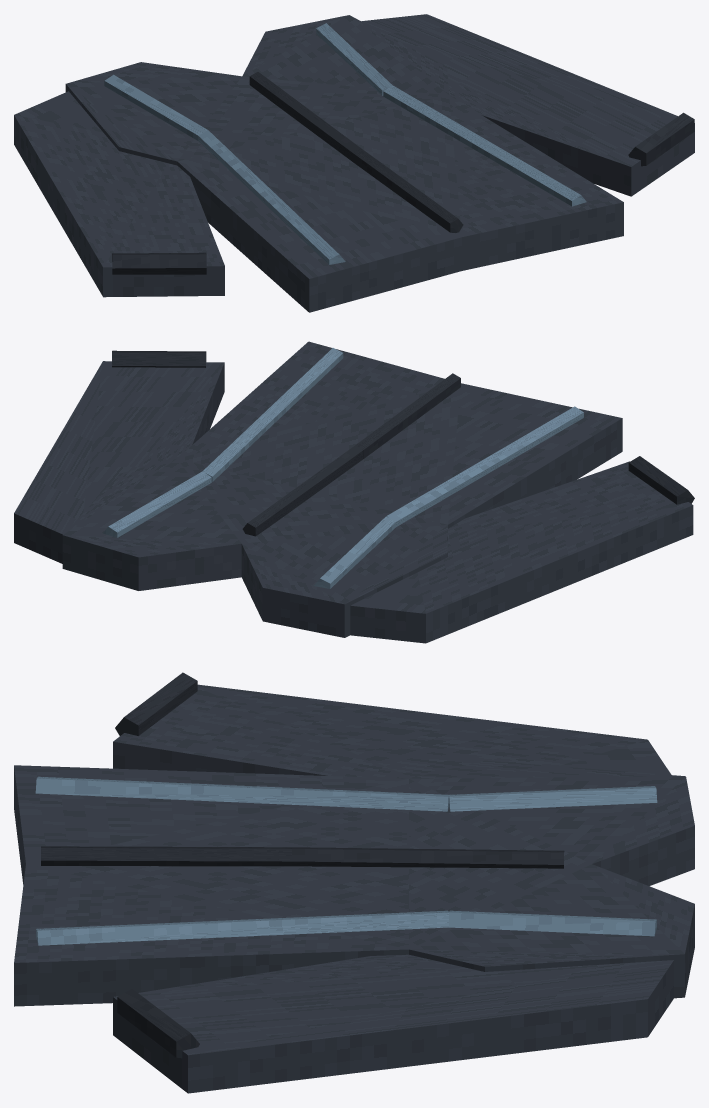
File: wetsuit_jacket.glb
3 views of the same model, one above another, from view 1: azimuth 30°, elevation 25°; view 2: azimuth 150°, elevation 25°; view 3: azimuth 270°, elevation 25° (orthographic). The views are drawn at different scales.
Visible parts, largest first — view 1: block_garment body, block_sleeve (×2), block_bonded neoprene seam 1 (×2), block_cuff 0 (×2), block_bonded neoprene seam 0 (×2), block_front closure 1, block_front closure 0; view 2: block_garment body, block_sleeve (×2), block_bonded neoprene seam 1 (×2), block_bonded neoprene seam 0 (×2), block_cuff 0 (×2), block_front closure 0, block_front closure 1; view 3: block_garment body, block_sleeve (×2), block_bonded neoprene seam 1 (×2), block_bonded neoprene seam 0 (×2), block_front closure 0, block_front closure 1, block_cuff 0 (×2).
Part boxes in pixels (x1,y1,x2,y2): block_garment body: (65, 15, 623, 312); block_sleeve (×2): (14, 14, 694, 297); block_bonded neoprene seam 1 (×2): (198, 85, 586, 264); block_cuff 0 (×2): (112, 112, 694, 274); block_bonded neoprene seam 0 (×2): (104, 23, 392, 140); block_front closure 1: (352, 148, 463, 232); block_front closure 0: (249, 72, 360, 161); block_garment body: (62, 341, 622, 637); block_sleeve (×2): (14, 361, 693, 643); block_bonded neoprene seam 1 (×2): (202, 348, 583, 526); block_bonded neoprene seam 0 (×2): (103, 471, 395, 588); block_cuff 0 (×2): (112, 350, 694, 504); block_front closure 0: (242, 445, 363, 536); block_front closure 1: (356, 373, 460, 458); block_garment body: (14, 760, 694, 1006); block_sleeve (×2): (113, 684, 673, 1093); block_bonded neoprene seam 1 (×2): (35, 776, 448, 945); block_bonded neoprene seam 0 (×2): (449, 786, 657, 936); block_front closure 0: (292, 847, 564, 868); block_front closure 1: (41, 846, 291, 866); block_cuff 0 (×2): (115, 672, 199, 1058).
Bounding box in the file's own units: 0.6365 × 0.0488 × 0.4926.
1 material, 1 textured.
